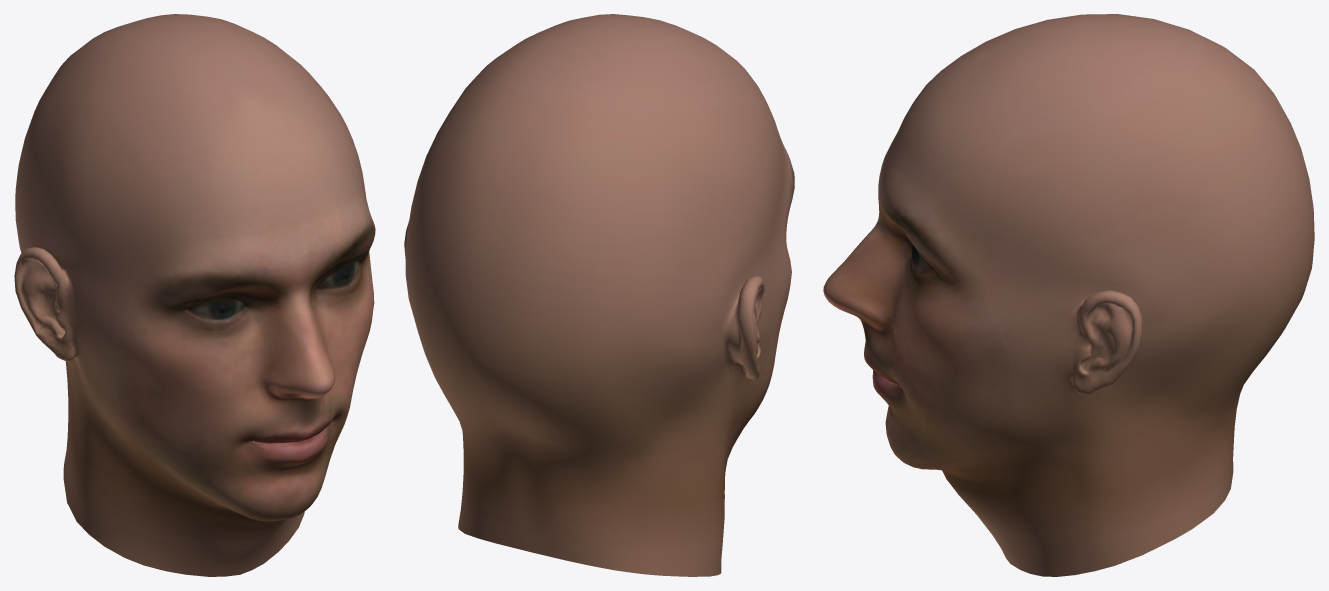
3 renders of one model, left to right at view 1: azimuth 30°, elevation 25°; view 2: azimuth 150°, elevation 25°; view 3: azimuth 270°, elevation 25°, orthographic. The views are drawn at different scales.
Visible parts, largest first — view 1: HeadHires; view 2: HeadHires; view 3: HeadHires.
Boxes of the visible parts, x1,y1,x2,y2 form: HeadHires: [14, 14, 375, 576]; HeadHires: [404, 14, 794, 576]; HeadHires: [823, 14, 1314, 576].
Bounding box in the file's own units: 189 × 283 × 241.
Materials: 1 (1 with a texture image).
